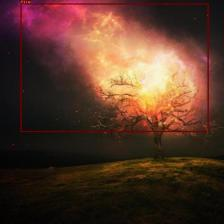fire: (20, 3, 209, 132)
